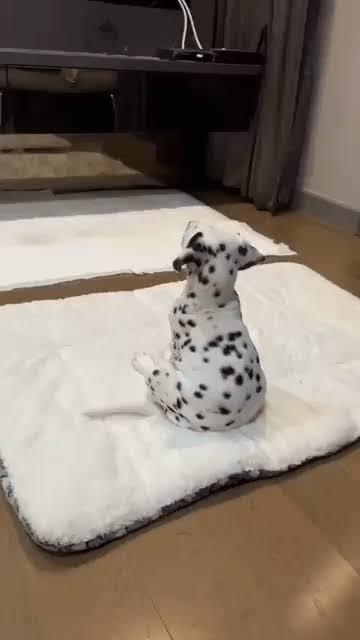puppy-dog: (83, 218, 269, 433)
